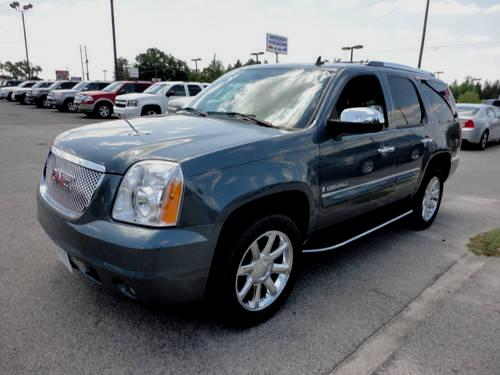GMC: (45, 164, 85, 196)
